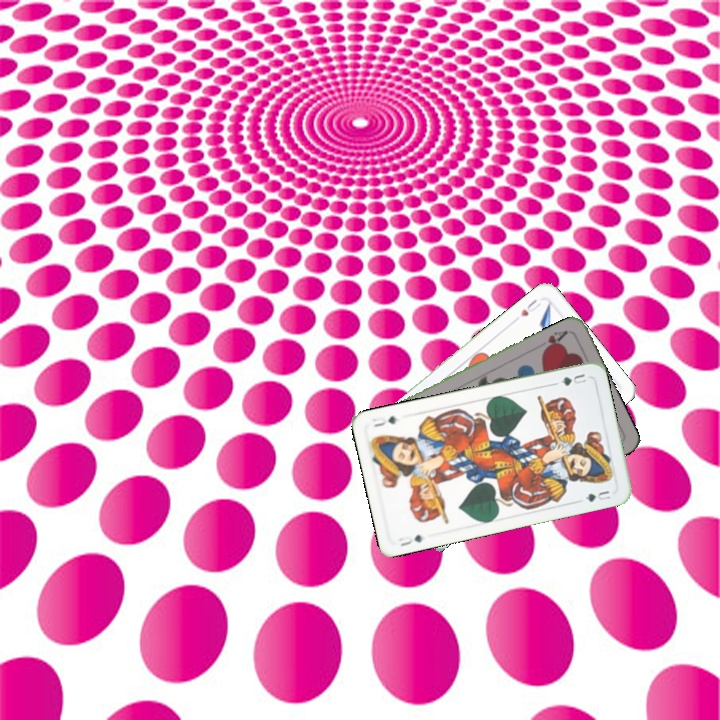GU: (551, 369, 589, 389), (394, 530, 426, 549)
HA: (539, 326, 571, 355)
HU: (517, 295, 544, 319)
